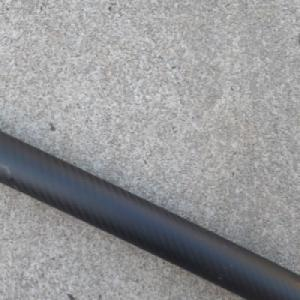LuggagePart: (0, 128, 300, 300)
